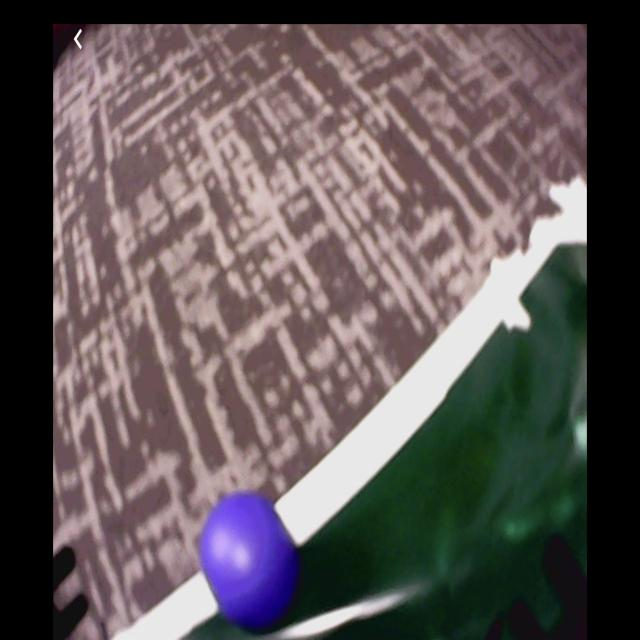ball: (204, 492, 291, 621)
